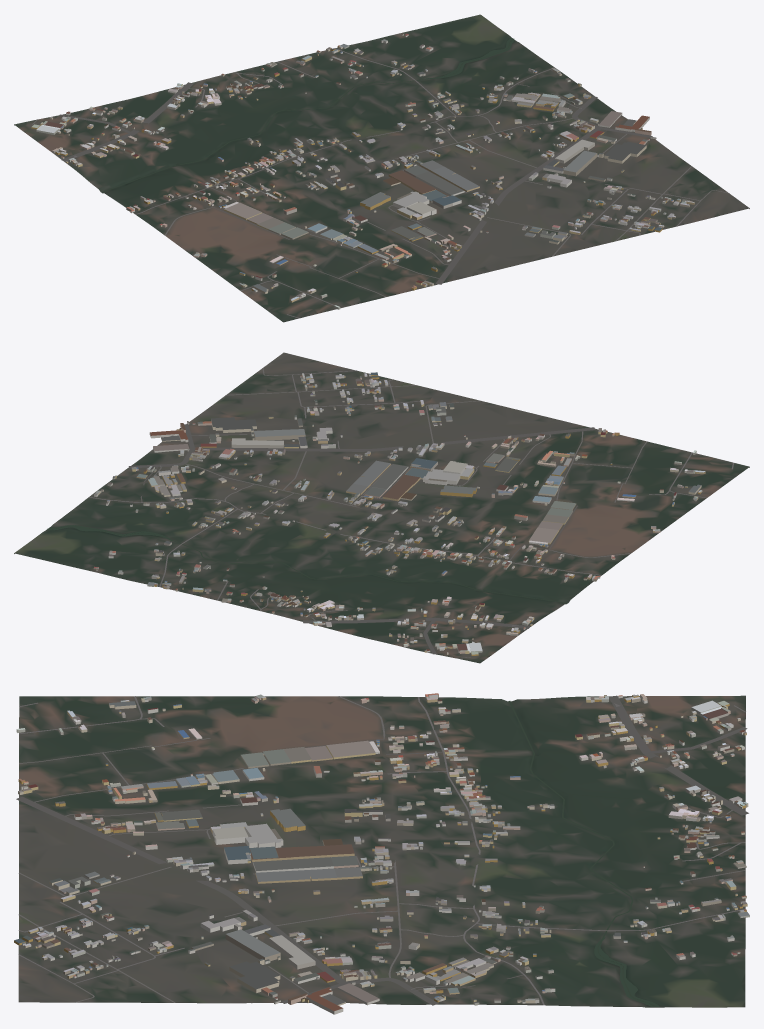
3 views of the same model, one above another, from view 1: azimuth 30°, elevation 25°; view 2: azimuth 150°, elevation 25°; view 3: azimuth 270°, elevation 25° (orthographic). The views are drawn at different scales.
Parts seen in each view (by area): view 1: ground, buildings, roads, water; view 2: ground, buildings, roads, water; view 3: ground, buildings, roads, water.
Part boxes in pixels (<box>): ground: <box>14,14,749,322</box>; buildings: <box>31,33,694,309</box>; roads: <box>32,48,728,318</box>; water: <box>101,38,514,192</box>; ground: <box>14,352,749,663</box>; buildings: <box>93,372,705,655</box>; roads: <box>88,368,734,658</box>; water: <box>47,525,567,603</box>; ground: <box>18,695,745,1007</box>; buildings: <box>14,693,749,1014</box>; roads: <box>16,695,748,1005</box>; water: <box>509,701,659,1007</box>.
Size of the model in its own units: 1455 by 25.21 by 1418.
